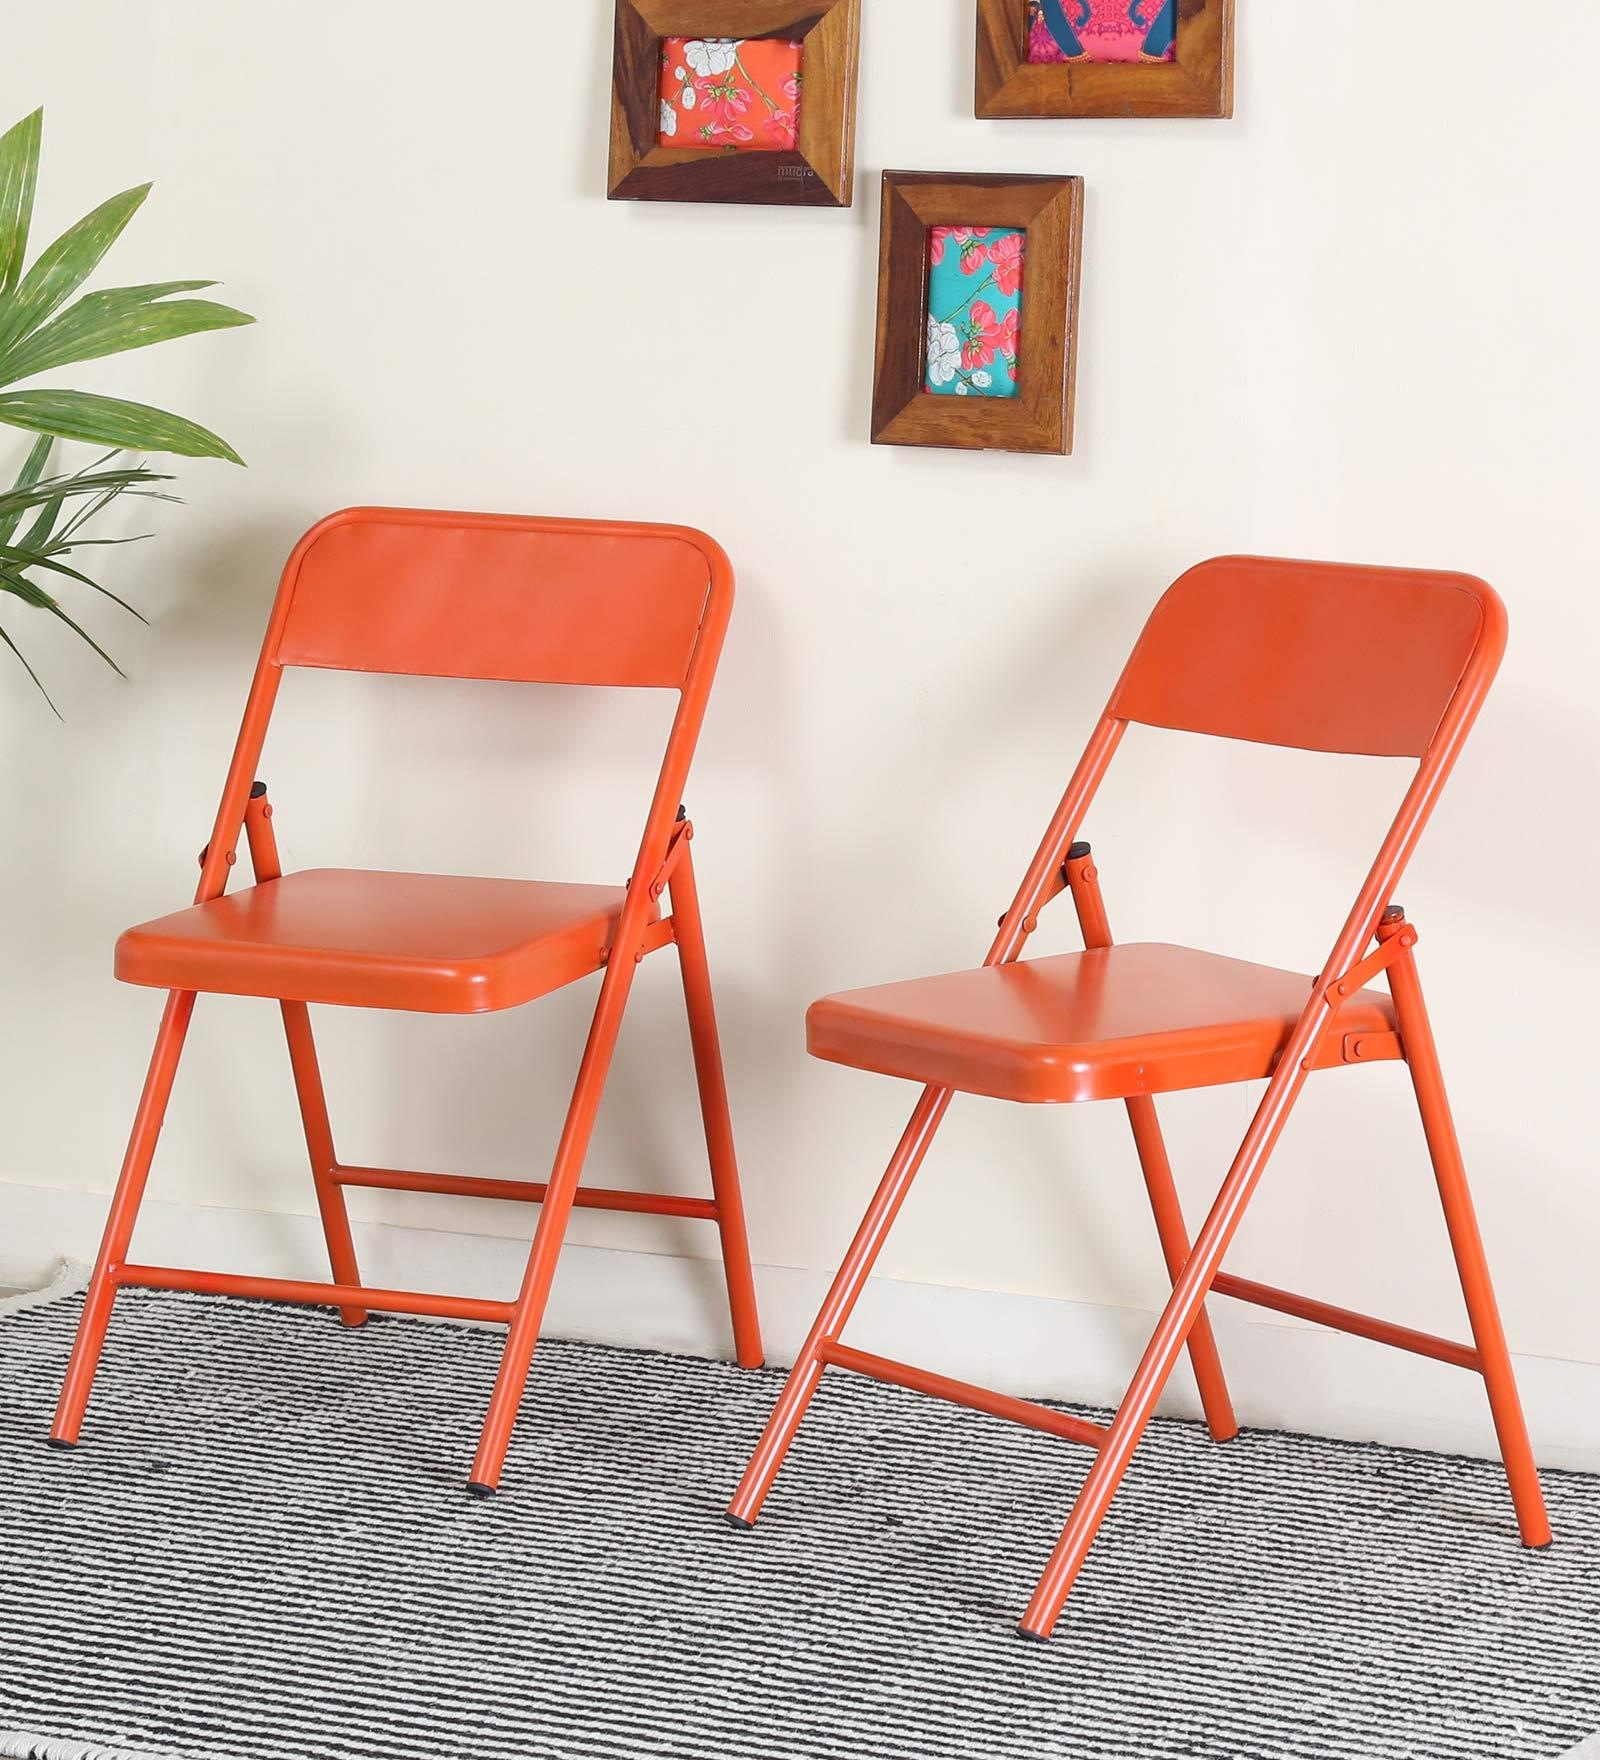Kell Folding Chair (Set of 2) in Orange Color by Bohemiana: (58, 488, 1598, 1682)
